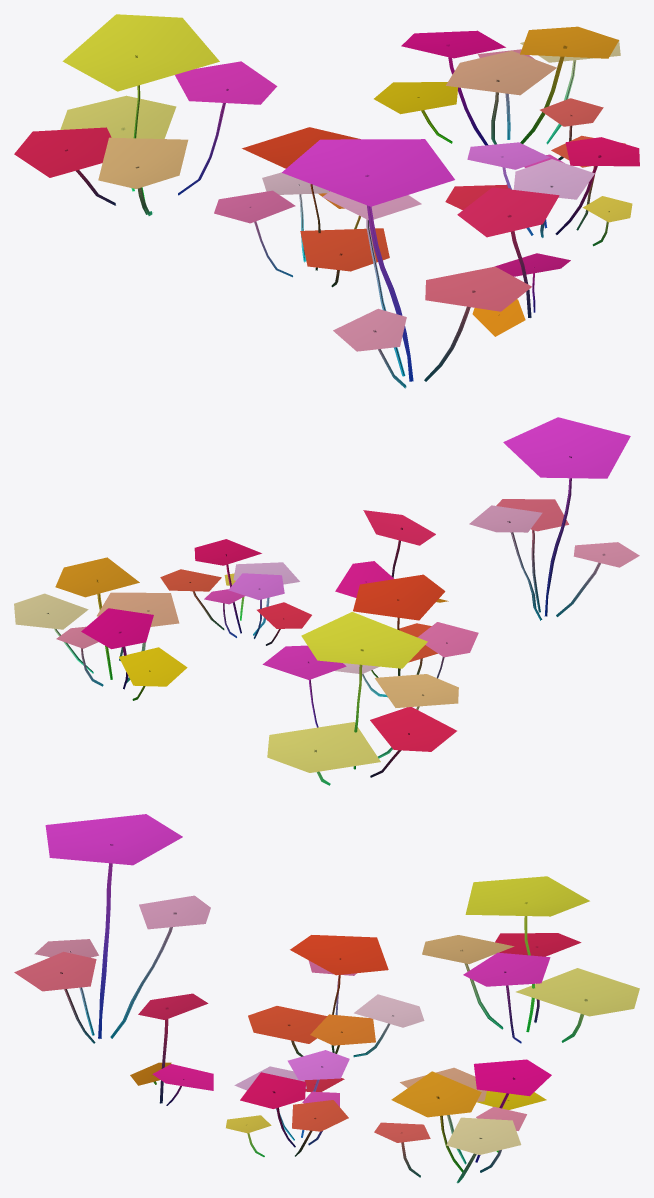
The model's file is Wood_Sorrel_wcwmchzja_Mid_wcwmchzja_VarF_LOD0.fbx.
The picture shows the model from 3 angles, top to bottom: view 1: azimuth 30°, elevation 25°; view 2: azimuth 150°, elevation 25°; view 3: azimuth 270°, elevation 25°; orthographic projection. The views are drawn at different scales.
Parts seen in each view (by area): view 1: _3nq3_VarF_LOD1; view 2: _3nq3_VarF_LOD1; view 3: _3nq3_VarF_LOD1.
Boxes of the visible parts, bbox=[...] form: _3nq3_VarF_LOD1: bbox=[14, 14, 639, 388]; _3nq3_VarF_LOD1: bbox=[14, 417, 639, 785]; _3nq3_VarF_LOD1: bbox=[14, 814, 639, 1183].
Bounding box in the file's own units: 22.74 × 8.86 × 25.9.
